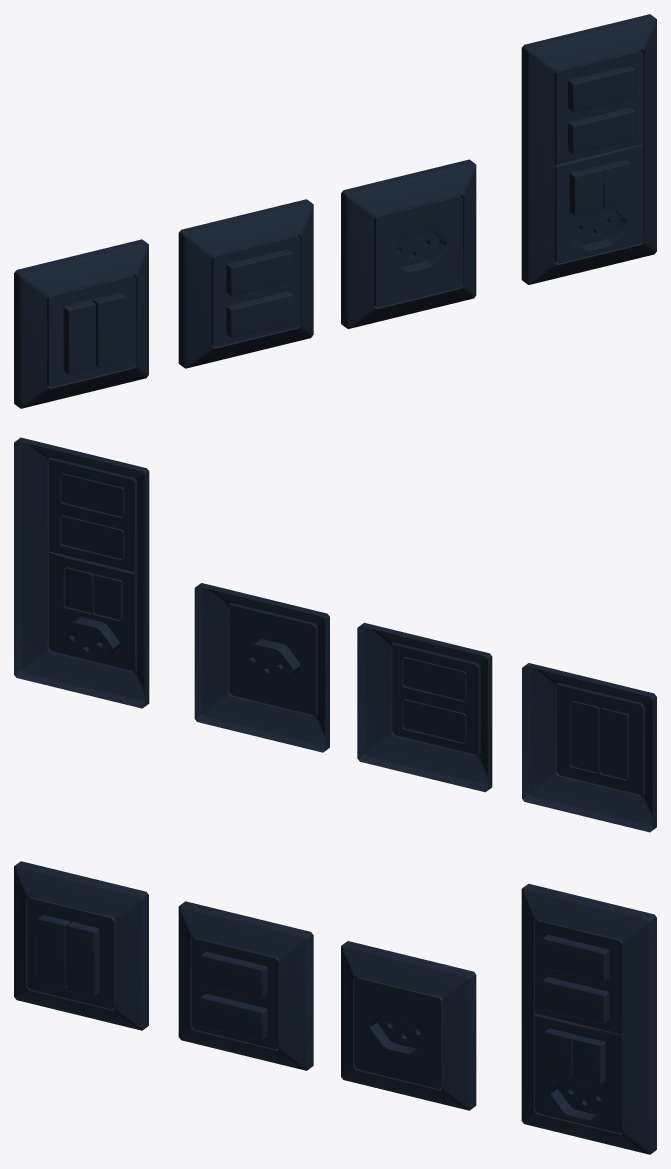
The model's file is ModernSwitchesAndPlugs.fbx.
3 renders of one model, top to bottom at view 1: azimuth 30°, elevation 25°; view 2: azimuth 150°, elevation 25°; view 3: azimuth 330°, elevation 25°, orthographic.
Visible parts, largest first — view 1: MultiSwitch_modern, PowePlug_modern, SwitchShades, SwtichLight; view 2: MultiSwitch_modern, PowePlug_modern, SwitchShades, SwtichLight; view 3: MultiSwitch_modern, PowePlug_modern, SwitchShades, SwtichLight.
Part boxes in pixels (x1,y1,x2,y2): MultiSwitch_modern: (521,14,656,284); PowePlug_modern: (341,159,476,328); SwitchShades: (178,199,313,368); SwtichLight: (14,239,148,408); MultiSwitch_modern: (14,437,149,708); PowePlug_modern: (194,583,329,752); SwitchShades: (357,622,492,792); SwtichLight: (522,663,656,832); MultiSwitch_modern: (521,883,656,1154); PowePlug_modern: (341,941,476,1110); SwitchShades: (178,901,313,1070); SwtichLight: (14,861,148,1030).
Bounding box in the file's own units: 44.52 × 15.8 × 2.18.
